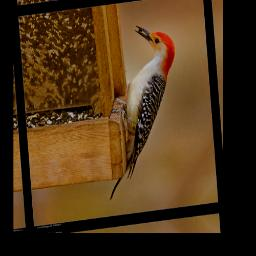Woodpecker: (97, 20, 186, 201)
